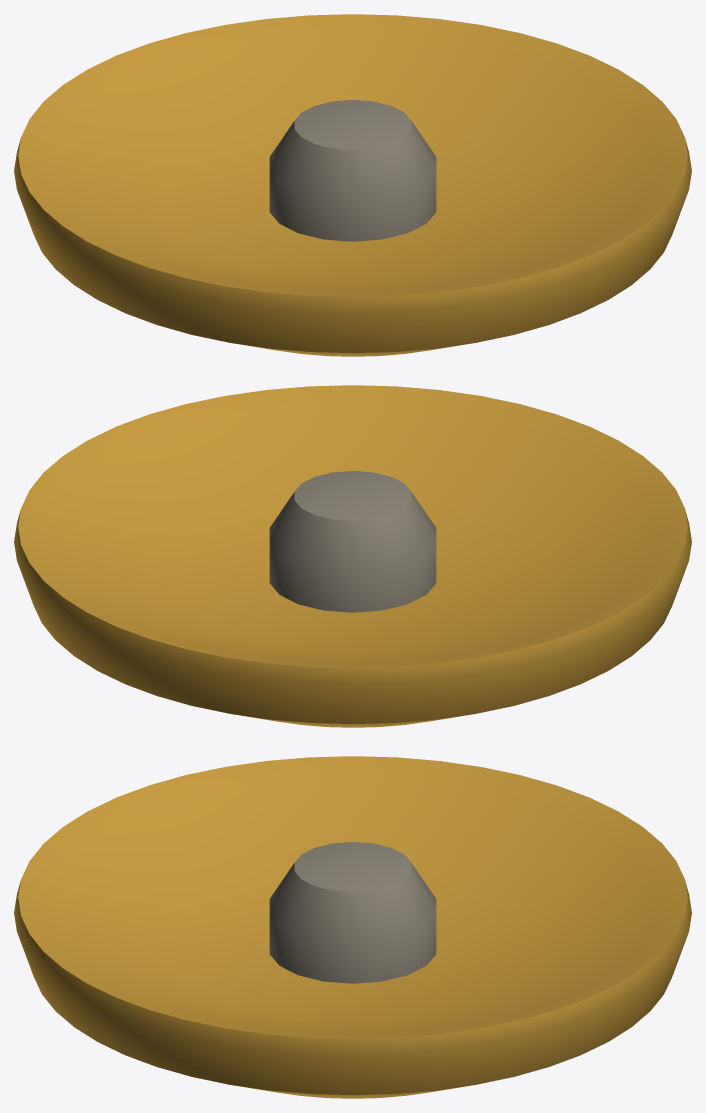
Rendered from lm_foot_pad.glb.
The picture shows the model from 3 angles, top to bottom: view 1: azimuth 30°, elevation 25°; view 2: azimuth 150°, elevation 25°; view 3: azimuth 270°, elevation 25°; orthographic projection.
Parts seen in each view (by area): view 1: LM_Pad, LM_Socket; view 2: LM_Pad, LM_Socket; view 3: LM_Pad, LM_Socket.
Boxes of the visible parts, x1,y1,x2,y2 form: LM_Pad: [14, 14, 691, 356]; LM_Socket: [269, 100, 436, 241]; LM_Pad: [14, 385, 691, 727]; LM_Socket: [269, 471, 436, 612]; LM_Pad: [14, 756, 691, 1098]; LM_Socket: [269, 842, 436, 983].
Bounding box in the file's own units: 0.8 × 0.2 × 0.8.
